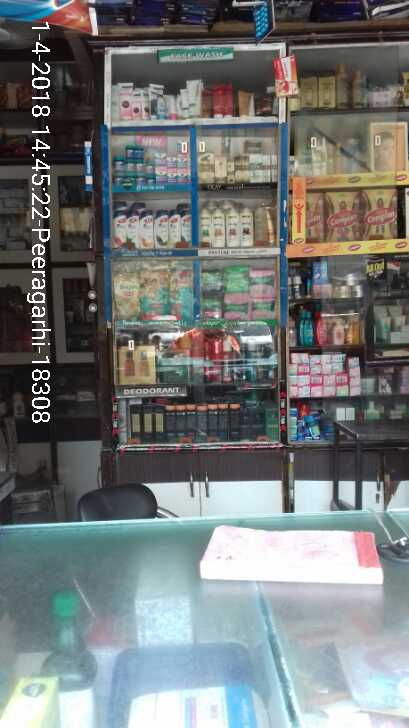vicks: (112, 144, 190, 182)
